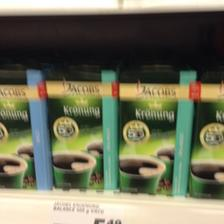Kaffee: (116, 64, 196, 196), (45, 65, 117, 190)
